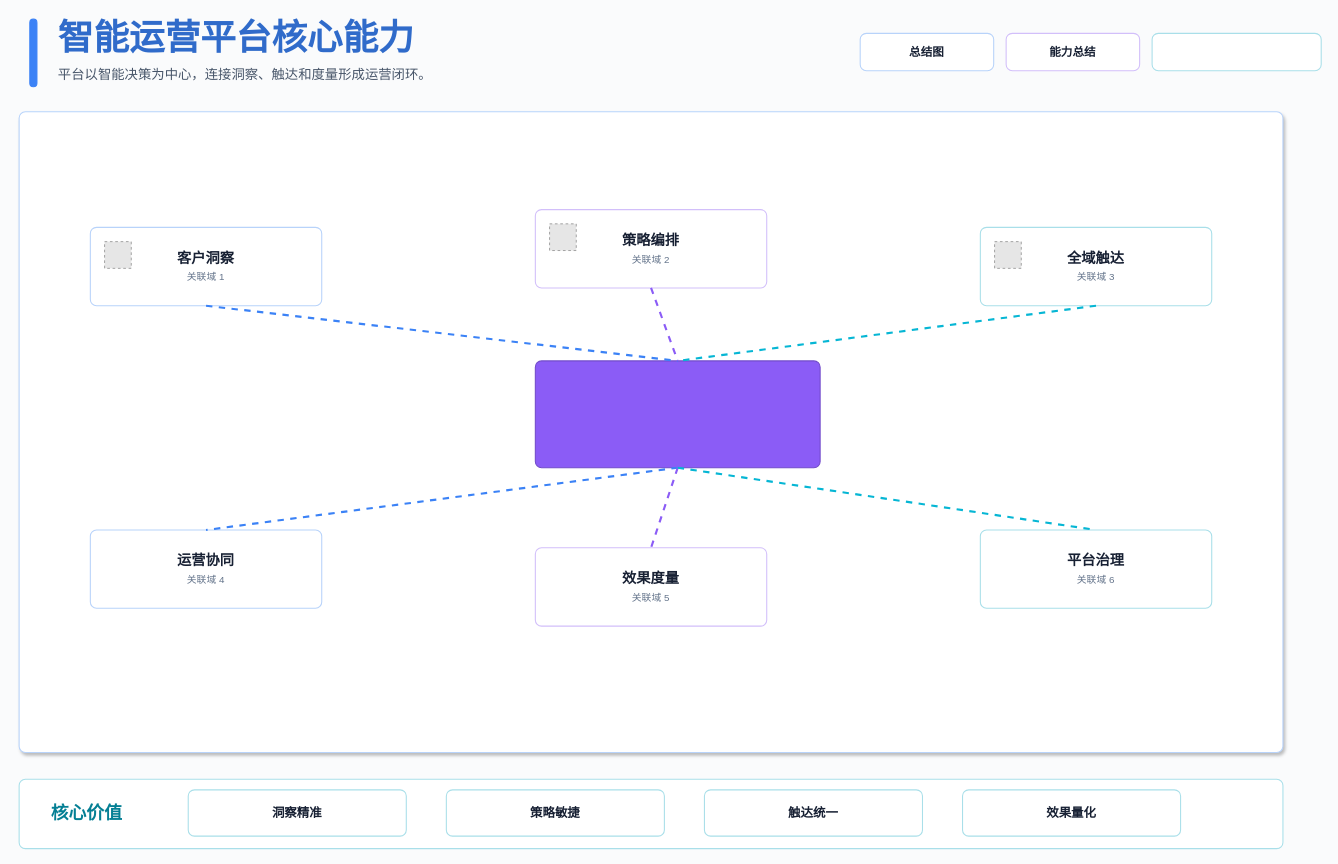
Image size: 1338x864. Some labels were removed from this diagram. Grey dashed boxes stand in for pictures. The centre of each missing label's shape, as x and y in pixels:
"Vibrant" goes at (1236,51).
"智能决策 核心能力" goes at (677,414).
